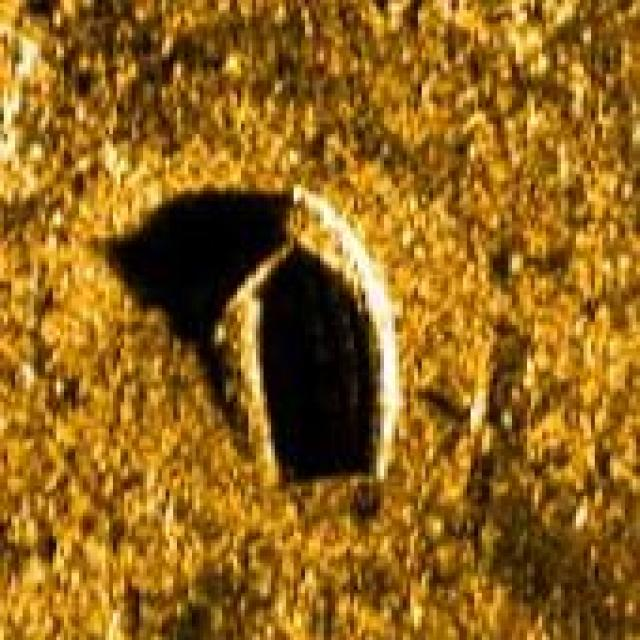ship: (207, 191, 395, 489)
